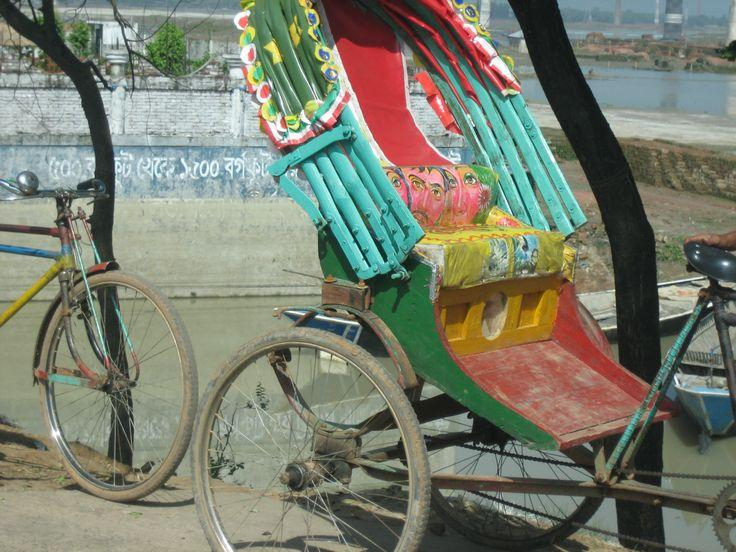Rickshaw: (192, 0, 735, 551), (0, 171, 197, 501)
